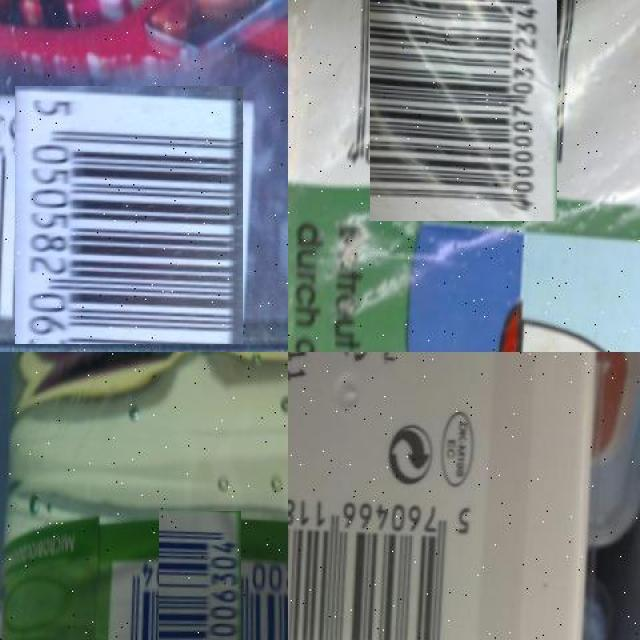Barcode: (7, 94, 251, 337), (353, 0, 575, 204), (288, 490, 486, 640), (135, 534, 265, 640)
